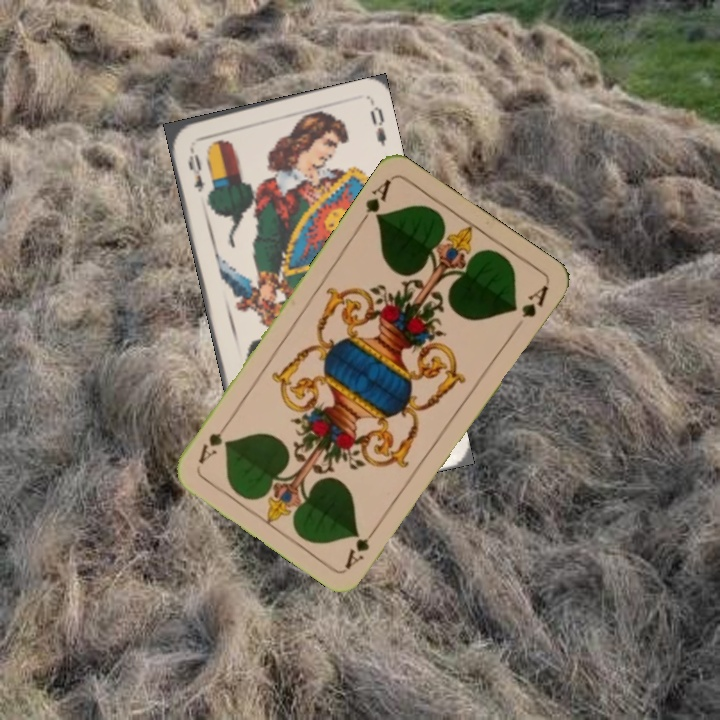EO: (184, 143, 207, 195)
GA: (341, 519, 382, 571), (355, 174, 394, 228)
